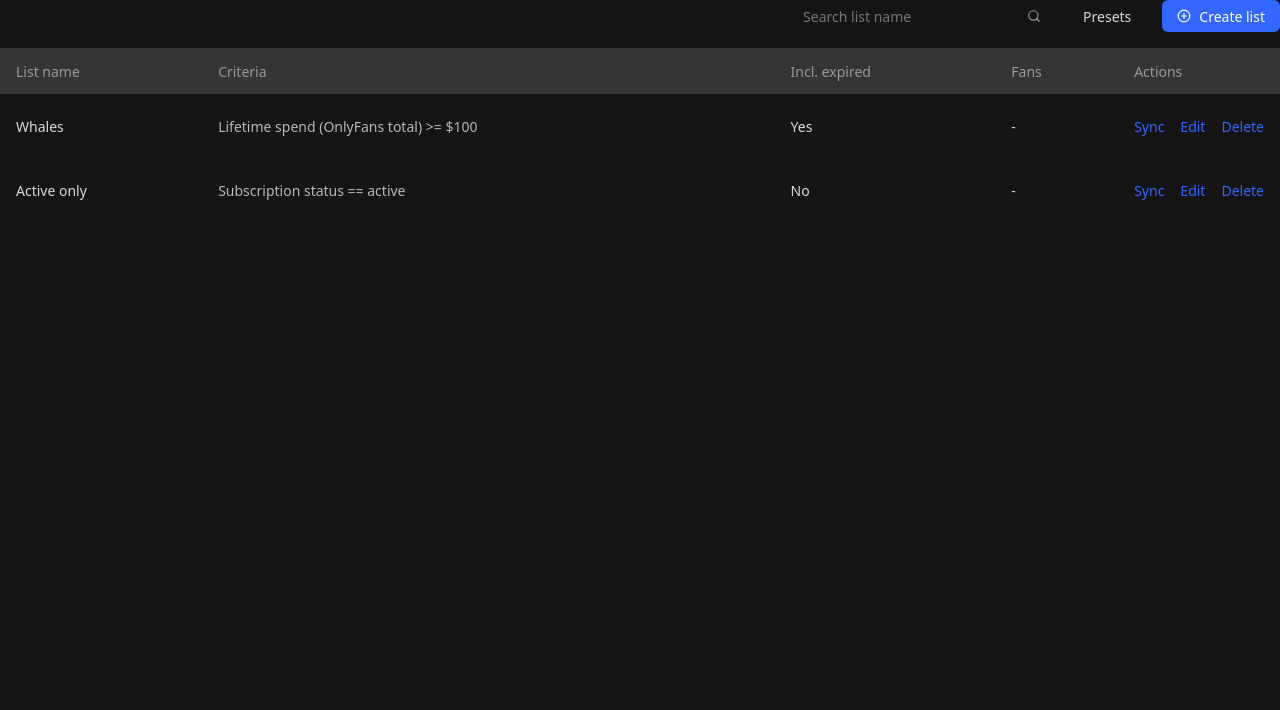
SmartListsTab › a preset card pre-fills the Create smart list dialog
This screenshot has width=1280, height=710.
Expected: the text "Whales" is shown, [16,116,64,136]
Step 1. Click the button "Presets" → (1107,16), box [1068,0,1146,32]
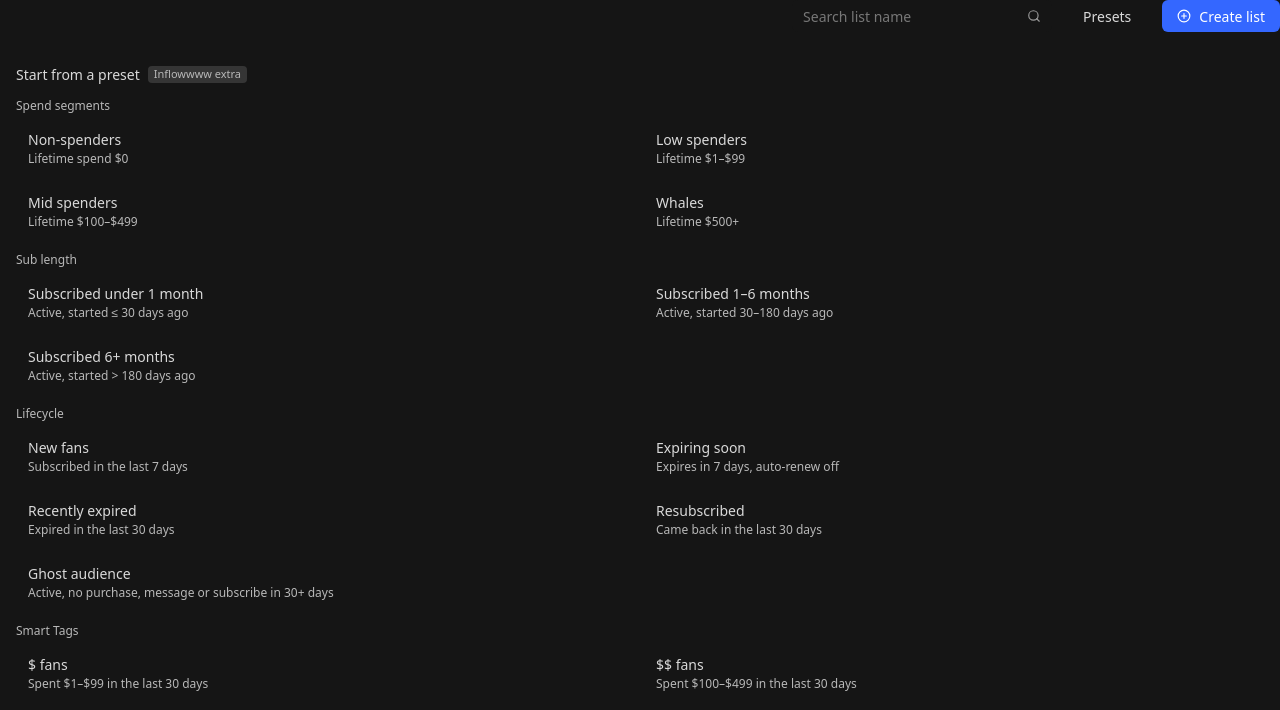
Step 2. Click the text "Expiring soon" → (701,448), box [656,438,746,457]
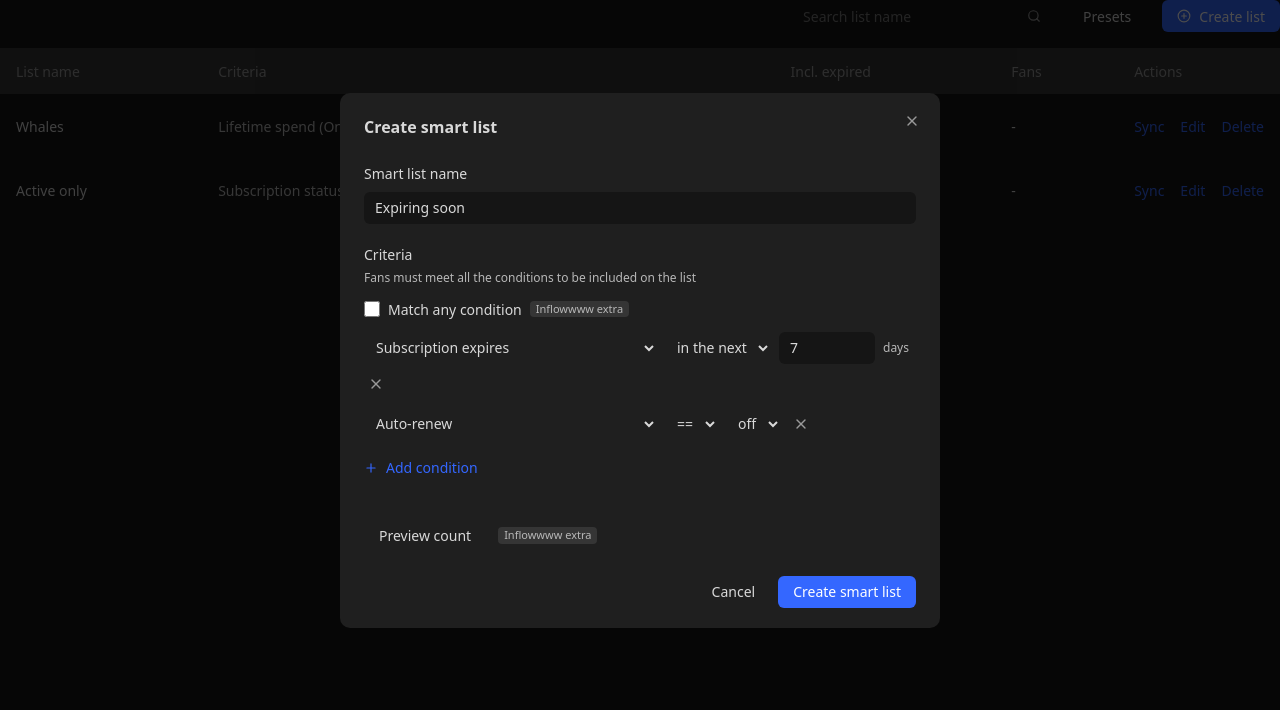
Expected: the field labelled "Smart list name" holds "Expiring soon", [364,192,916,224]
